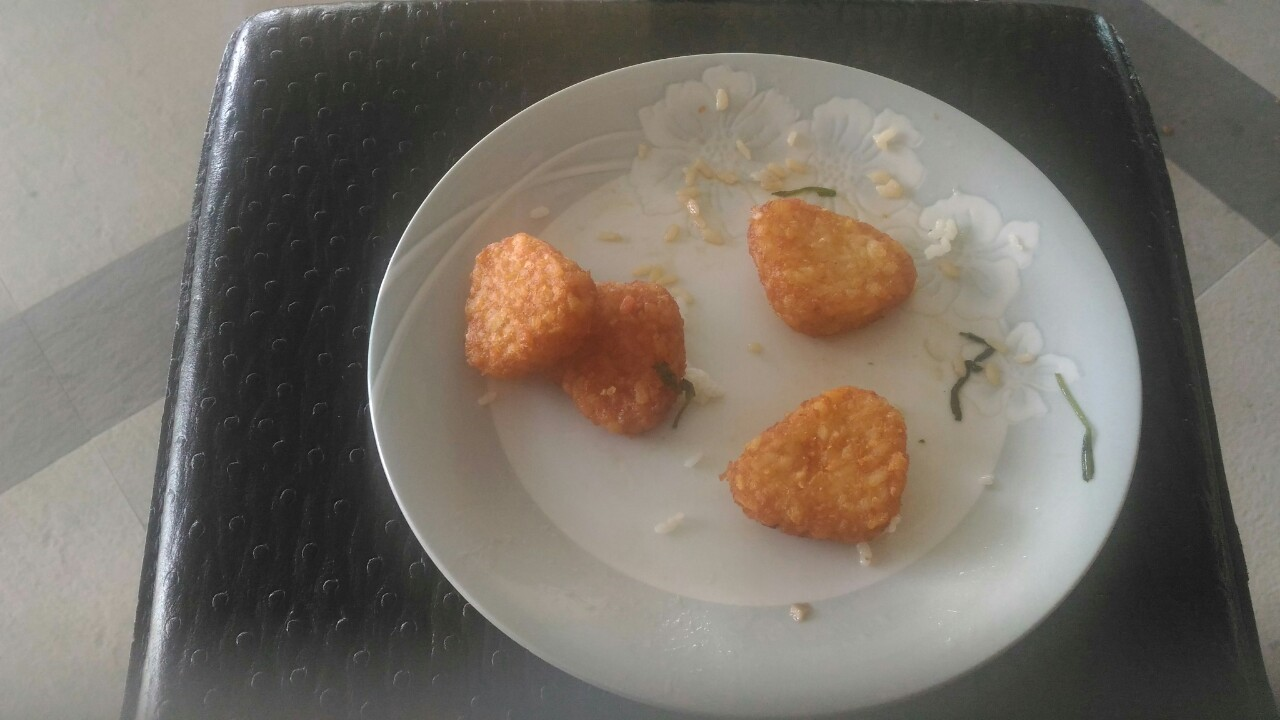triangle_hash_brown: (463, 234, 685, 438), (724, 384, 911, 547), (745, 197, 913, 342)
